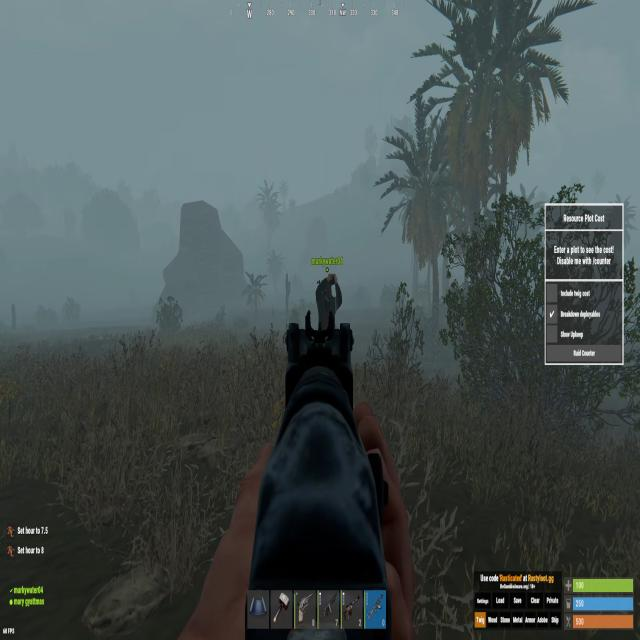Player: (315, 272, 343, 329)
